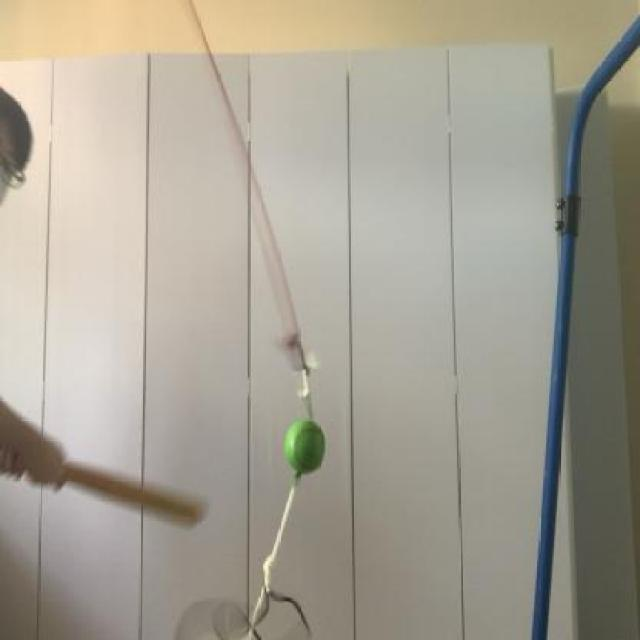baseball: (276, 410, 324, 478)
